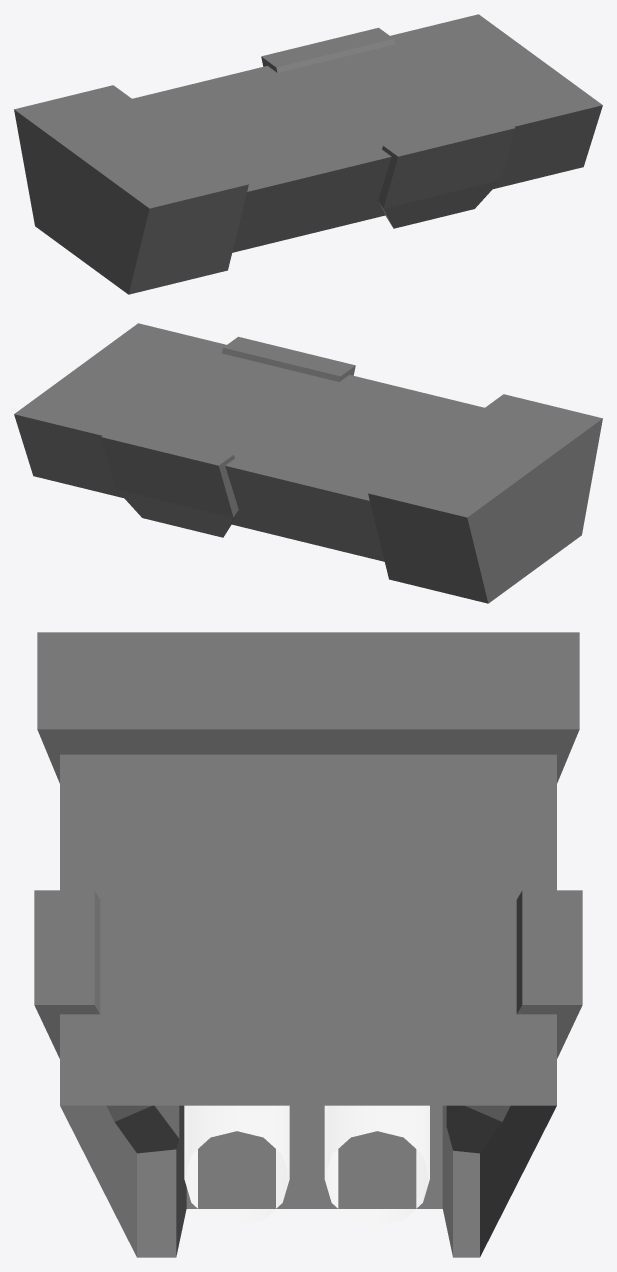
Rendered from q-scifi-mod-prop-light-small.glb.
The picture shows the model from 3 angles, top to bottom: view 1: azimuth 30°, elevation 25°; view 2: azimuth 150°, elevation 25°; view 3: azimuth 270°, elevation 25°; orthographic projection. The views are drawn at different scales.
Parts seen in each view (by area): view 1: Prop_Light_Small; view 2: Prop_Light_Small; view 3: Prop_Light_Small.
Boxes of the visible parts, x1,y1,x2,y2 form: Prop_Light_Small: [14, 14, 602, 294]; Prop_Light_Small: [14, 323, 602, 603]; Prop_Light_Small: [34, 632, 582, 1257].
Bounding box in the file's own units: 0.8609 × 0.1819 × 0.4453.
2 materials, 1 textured.
